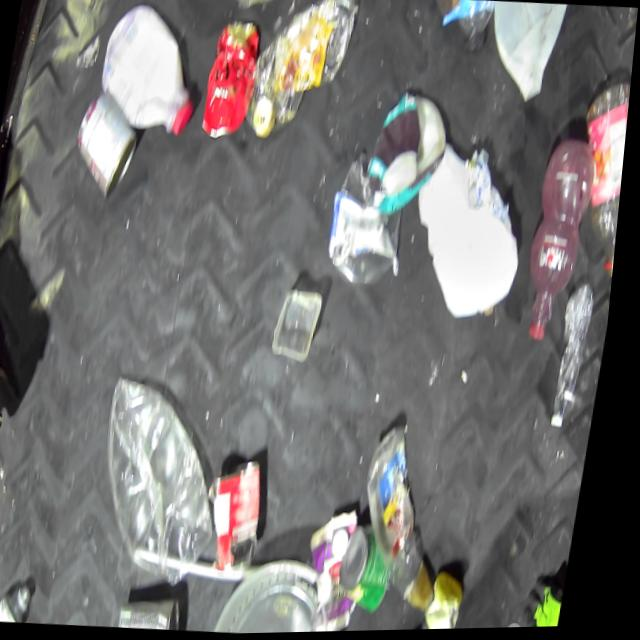can: (69, 88, 148, 203), (200, 19, 265, 141), (344, 524, 409, 617), (129, 597, 197, 632)
milk_jug: (402, 141, 542, 326), (93, 0, 212, 140), (476, 2, 570, 107)
plastic_bottle: (357, 421, 471, 614), (522, 138, 603, 346), (244, 0, 359, 145), (564, 81, 633, 283), (554, 282, 604, 433), (449, 0, 495, 59), (0, 582, 46, 624)
